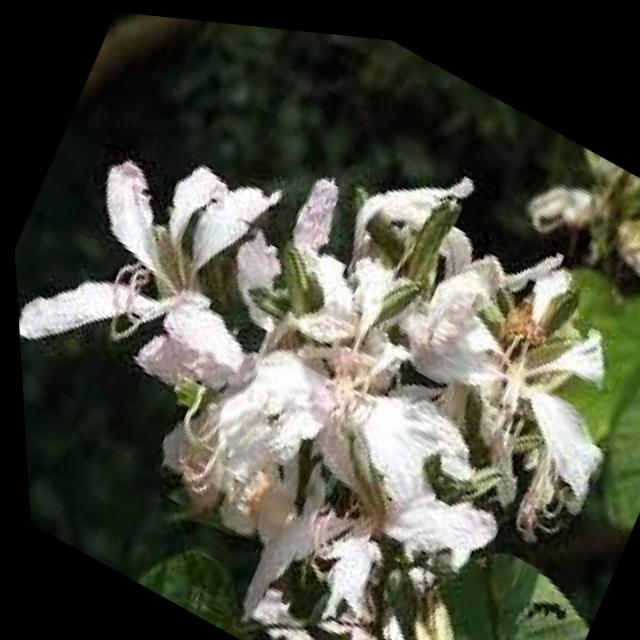Flower: (134, 312, 496, 640), (16, 80, 320, 433), (368, 207, 640, 506), (243, 131, 473, 398)
